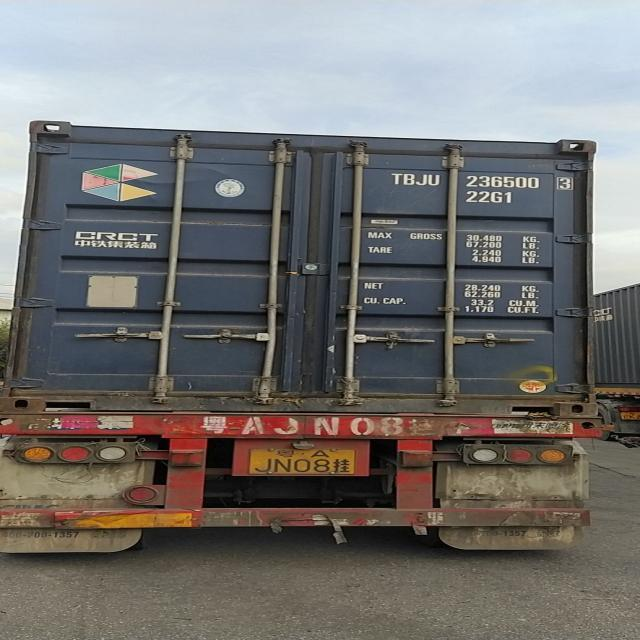ISO: (461, 188, 526, 203)
container_number: (383, 159, 577, 191)
